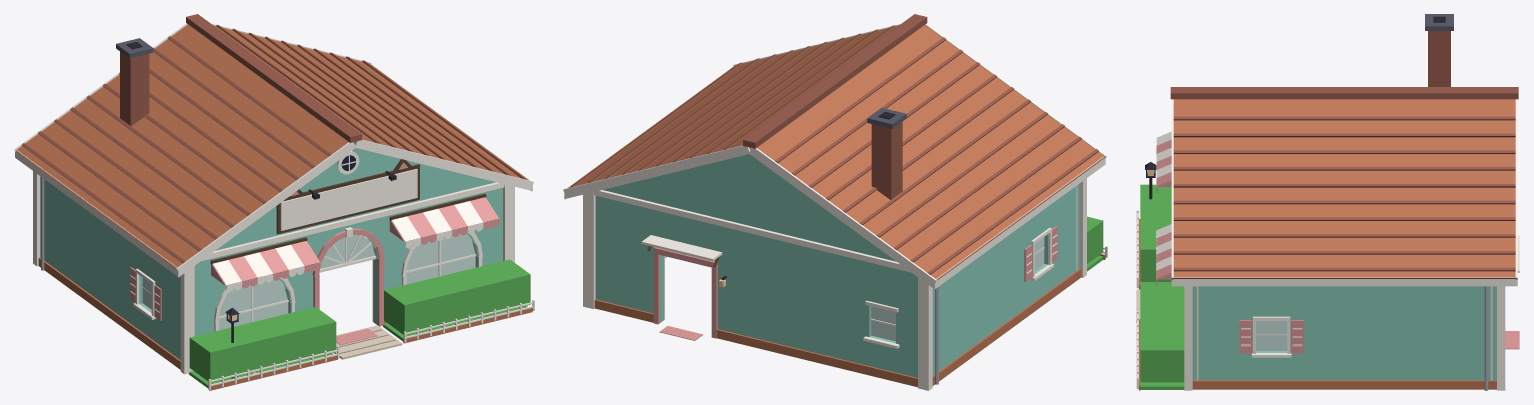
Rendered from CatCafe_Plot_Cafe_Mint.glb.
3 views of the same model, side by side, from view 1: azimuth 30°, elevation 25°; view 2: azimuth 150°, elevation 25°; view 3: azimuth 270°, elevation 25° (orthographic). The views are drawn at different scales.
Visible parts, largest first — view 1: CatCafe_Plot_Cafe_Mint_Roof, CatCafe_Plot_Cafe_Mint, CatCafe_Plot_Cafe_Mint_Fireflies, CatCafe_Plot_Cafe_Mint_Glass, CatCafe_Plot_Cafe_Mint_SignBoard, CatCafe_Plot_Cafe_Mint_Flowers; view 2: CatCafe_Plot_Cafe_Mint_Roof, CatCafe_Plot_Cafe_Mint, CatCafe_Plot_Cafe_Mint_Glass, CatCafe_Plot_Cafe_Mint_Fireflies; view 3: CatCafe_Plot_Cafe_Mint_Roof, CatCafe_Plot_Cafe_Mint, CatCafe_Plot_Cafe_Mint_Fireflies, CatCafe_Plot_Cafe_Mint_Glass, CatCafe_Plot_Cafe_Mint_Flowers.
Boxes of the visible parts, bbox=[...] form: CatCafe_Plot_Cafe_Mint_Roof: bbox=[14, 14, 533, 277]; CatCafe_Plot_Cafe_Mint: bbox=[33, 148, 534, 390]; CatCafe_Plot_Cafe_Mint_Fireflies: bbox=[189, 259, 530, 382]; CatCafe_Plot_Cafe_Mint_Glass: bbox=[142, 233, 475, 330]; CatCafe_Plot_Cafe_Mint_SignBoard: bbox=[280, 169, 417, 230]; CatCafe_Plot_Cafe_Mint_Flowers: bbox=[188, 306, 527, 388]; CatCafe_Plot_Cafe_Mint_Roof: bbox=[563, 14, 1106, 289]; CatCafe_Plot_Cafe_Mint: bbox=[583, 154, 1107, 390]; CatCafe_Plot_Cafe_Mint_Glass: bbox=[871, 237, 1044, 341]; CatCafe_Plot_Cafe_Mint_Fireflies: bbox=[1087, 216, 1103, 263]; CatCafe_Plot_Cafe_Mint_Roof: bbox=[1170, 14, 1518, 286]; CatCafe_Plot_Cafe_Mint: bbox=[1136, 131, 1519, 390]; CatCafe_Plot_Cafe_Mint_Fireflies: bbox=[1140, 184, 1184, 382]; CatCafe_Plot_Cafe_Mint_Glass: bbox=[1256, 321, 1287, 350]; CatCafe_Plot_Cafe_Mint_Flowers: bbox=[1140, 282, 1184, 389].
Size of the model in its own units: 41.86 by 25.3 by 36.8.
1 material, 1 textured.
